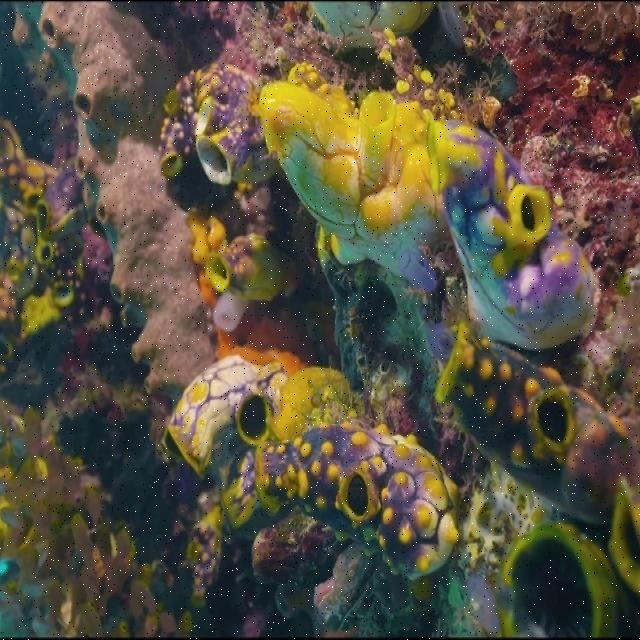reefs: (40, 2, 314, 412), (257, 62, 599, 351), (163, 356, 461, 582), (435, 320, 639, 637)
